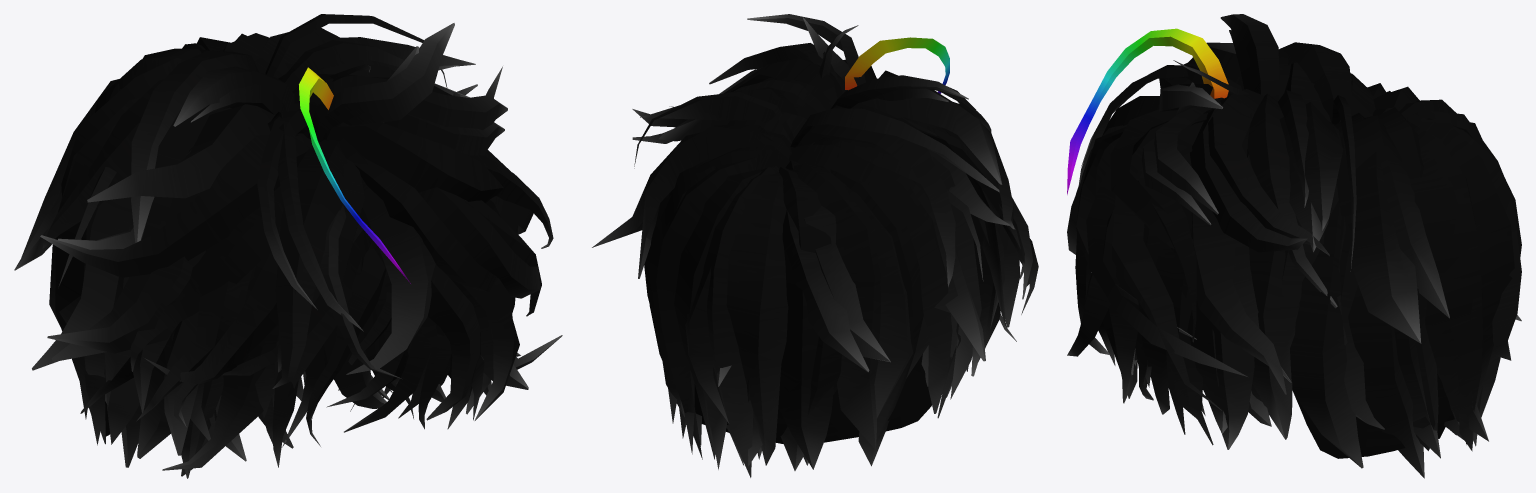
File: hair_9.fbx
3 renders of one model, left to right at view 1: azimuth 30°, elevation 25°; view 2: azimuth 150°, elevation 25°; view 3: azimuth 270°, elevation 25°, orthographic. The views are drawn at different scales.
Parts seen in each view (by area): view 1: hairwith_horn; view 2: hairwith_horn; view 3: hairwith_horn.
Part boxes in pixels (x1,y1,x2,y2): hairwith_horn: [14, 14, 562, 478]; hairwith_horn: [592, 14, 1038, 477]; hairwith_horn: [1067, 14, 1521, 478].
Size of the model in its own units: 178 by 158 by 168.
1 material, 1 textured.
